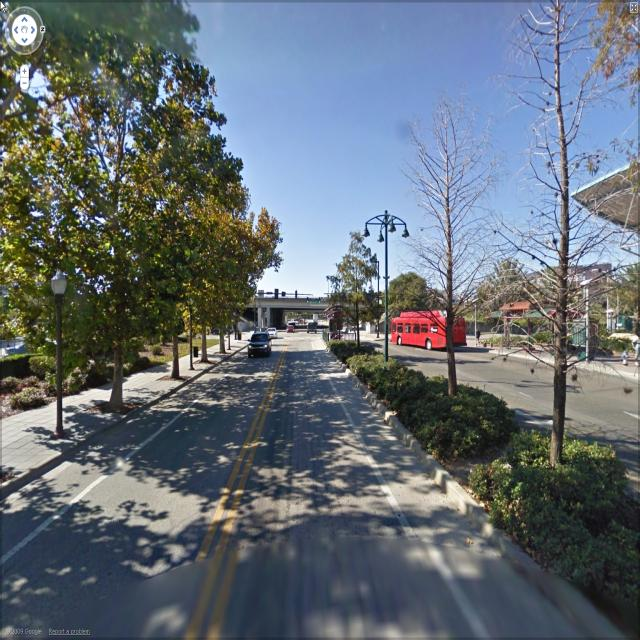b_2: (496, 250, 622, 321)
